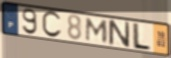8: (66, 14, 83, 42)
9: (21, 7, 39, 36)
C: (41, 10, 63, 39)
L: (131, 22, 153, 52)
M: (85, 17, 110, 44)
N: (107, 18, 132, 49)
